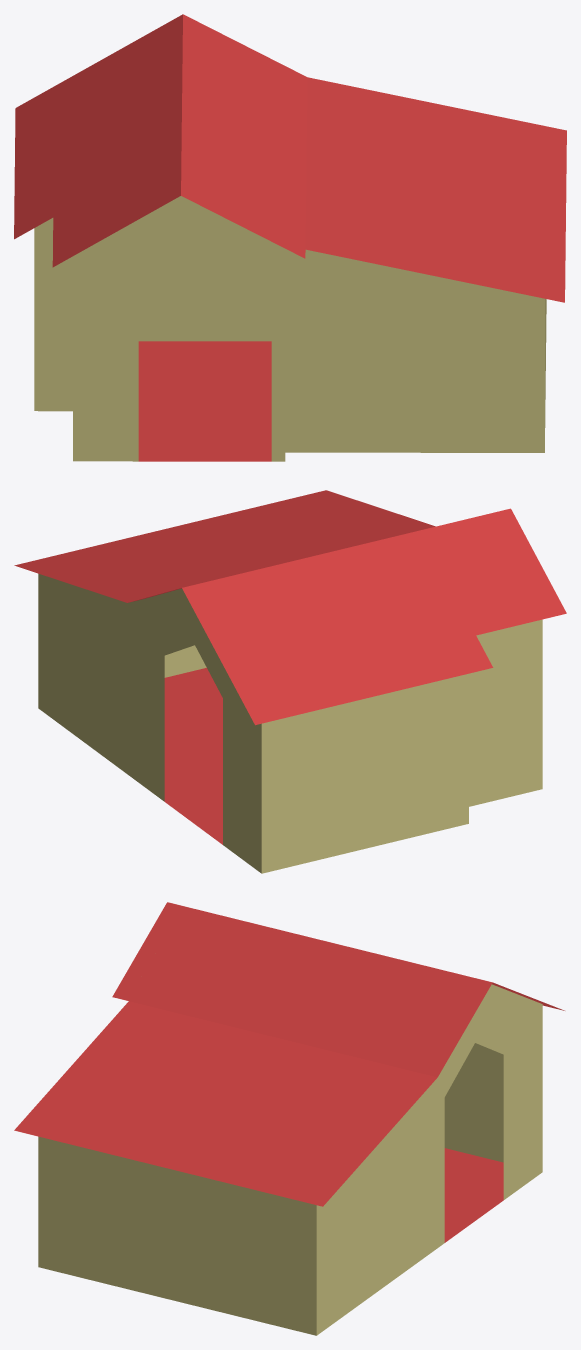
The picture shows the model from 3 angles, top to bottom: view 1: azimuth 30°, elevation 25°; view 2: azimuth 150°, elevation 25°; view 3: azimuth 270°, elevation 25°; orthographic projection. The views are drawn at different scales.
Bounding box in the file's own units: 32.59 × 31.17 × 14.97.
